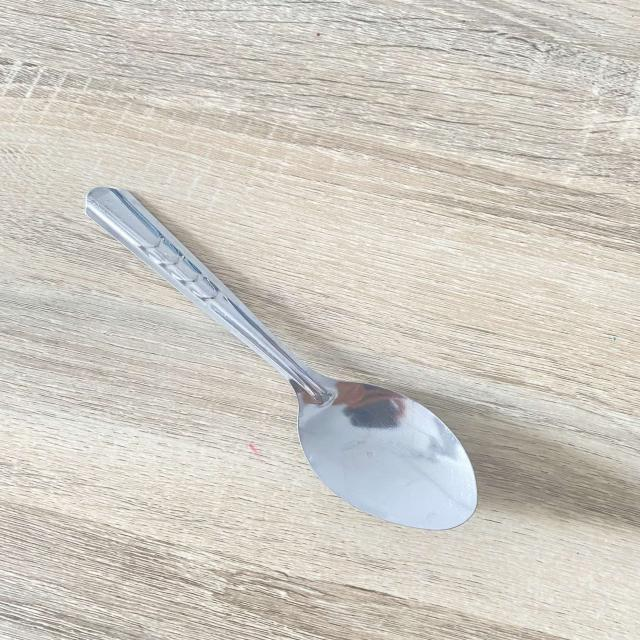spoon: (64, 172, 502, 535)
